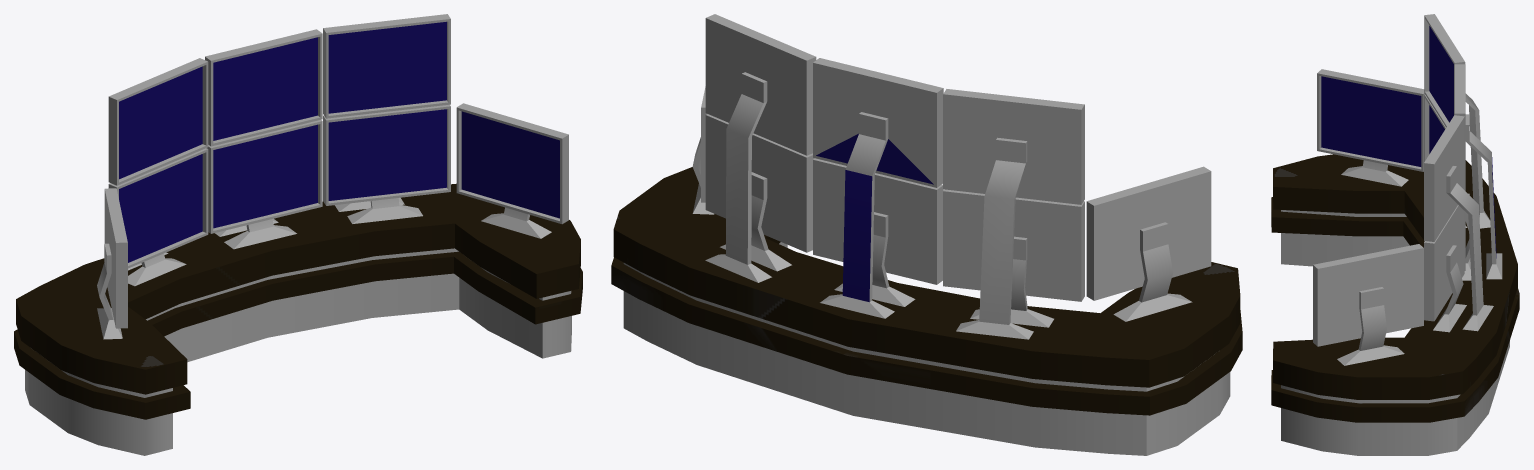
The model's file is Computer_Desk.fbx.
The picture shows the model from 3 angles, left to right: view 1: azimuth 30°, elevation 25°; view 2: azimuth 150°, elevation 25°; view 3: azimuth 270°, elevation 25°; orthographic projection. The views are drawn at different scales.
Visible parts, largest first — view 1: polySurface67; view 2: polySurface67; view 3: polySurface67.
Boxes of the visible parts, x1,y1,x2,y2 form: polySurface67: (14, 14, 582, 455); polySurface67: (611, 14, 1242, 455); polySurface67: (1271, 14, 1519, 455).
Bounding box in the file's own units: 2080 × 1107 × 961.
2 materials, 2 textured.
